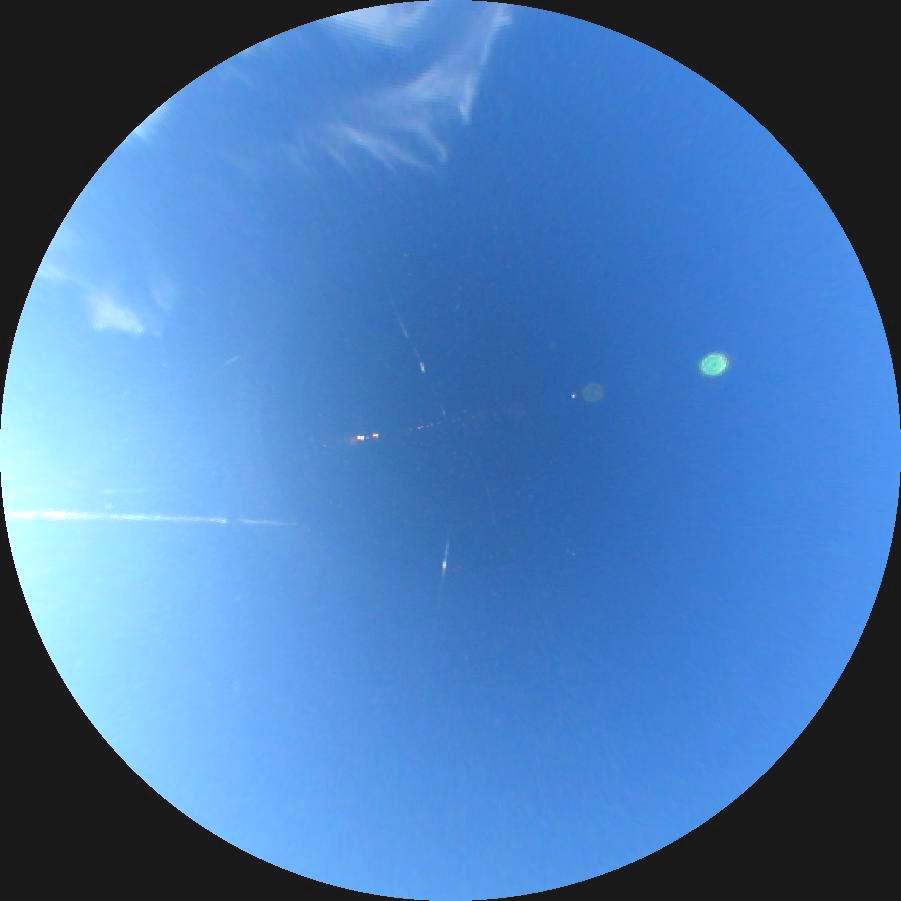parasite: (391, 309, 448, 417), (5, 509, 297, 527), (439, 535, 450, 598)
